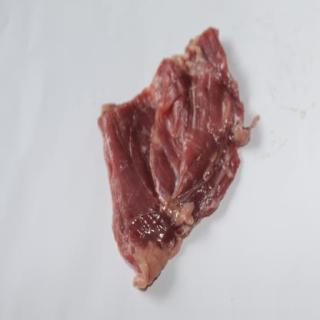Daging Sapi: (101, 27, 254, 290)
